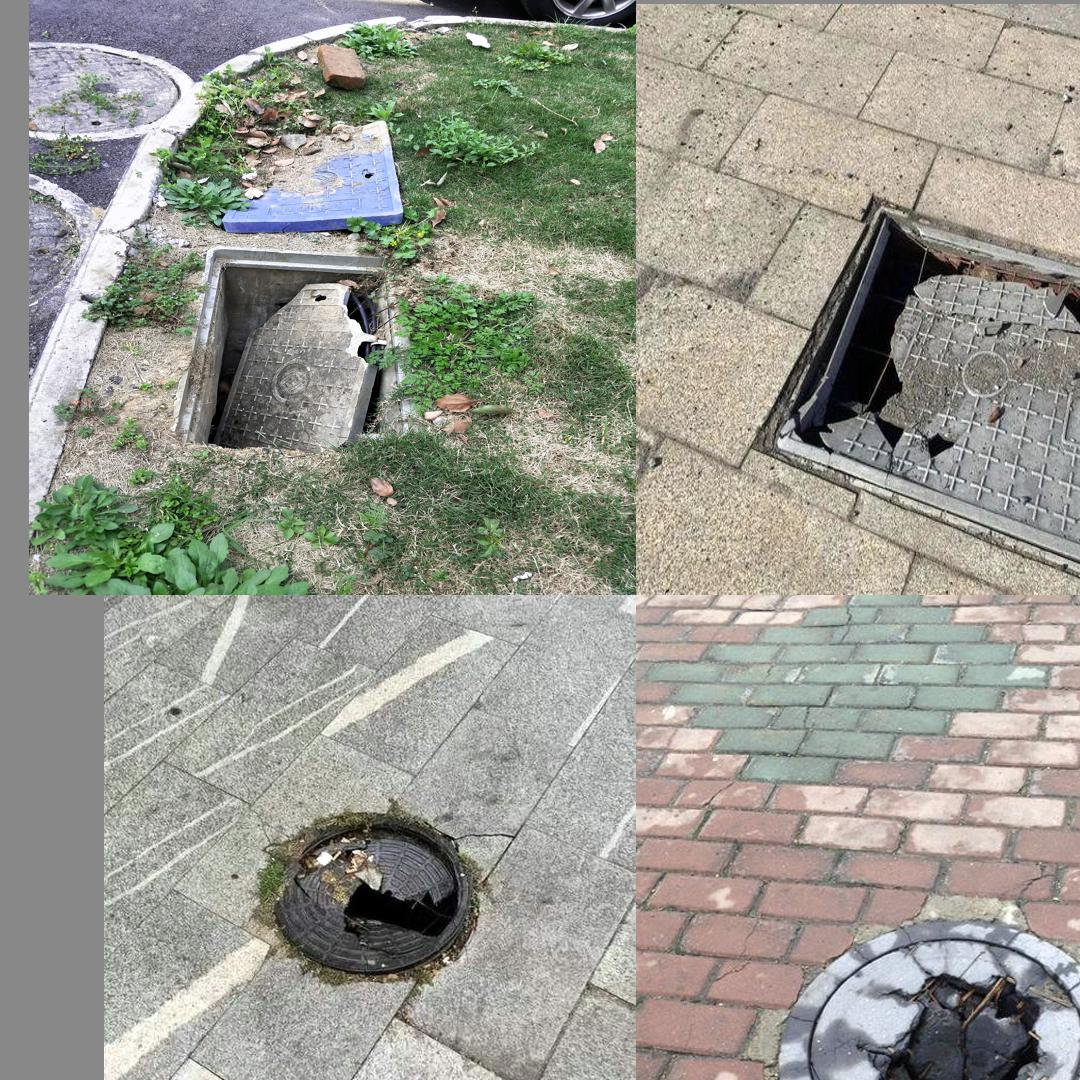broke: (751, 185, 1080, 593), (160, 243, 430, 450), (763, 905, 1080, 1080), (242, 798, 513, 998)
